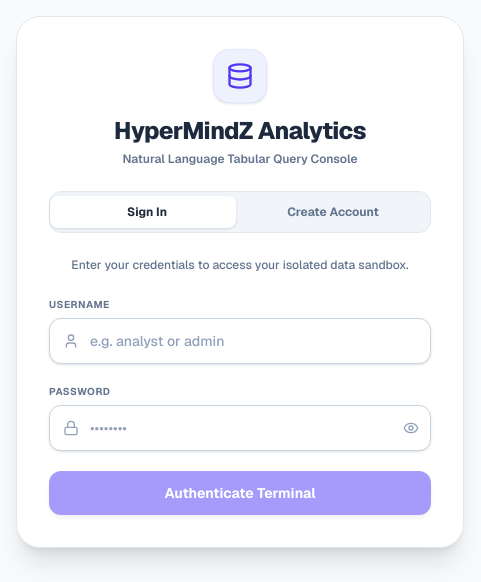
Test: MainDashboard Auth Wall › toggles between Sign In and Create Account modes
Check: the text "Enter your credentials to access your isolated data sandbox." is shown, box [57,257,423,273]
# Switch to Create Account
What coordinates should you click on to do the following:
click the button "Create Account"
I would click on:
 (333, 212)
Its box is [240,196,426,228].
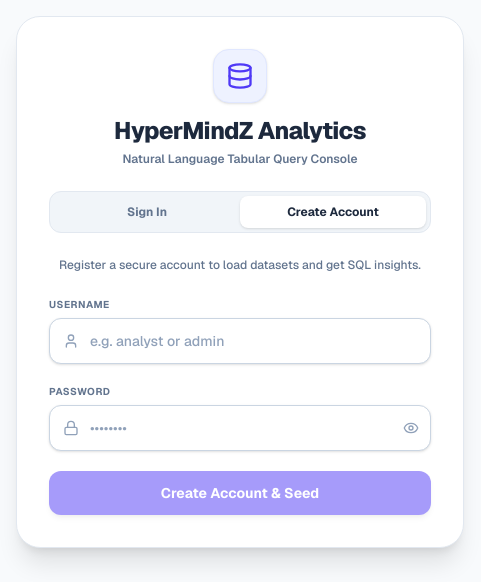
Check: the text "Register a secure account to load datasets and get SQL insights." is shown, box [57,257,423,273]
# Switch back to Sign In
What coordinates should you click on to do the following:
click the button "Sign In"
I would click on:
 (147, 212)
Its box is [54,196,240,228].
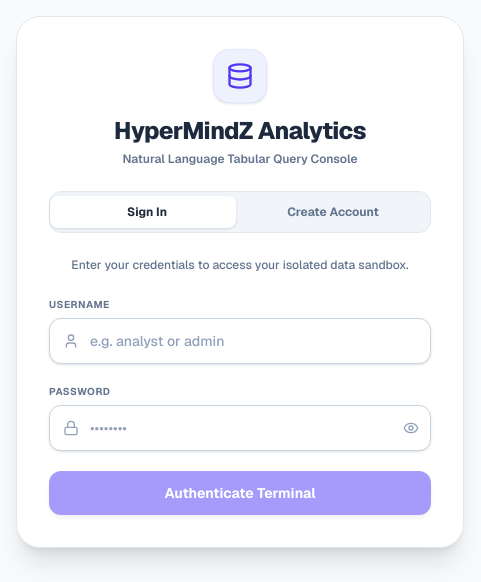
Check: the text "Enter your credentials to access your isolated data sandbox." is shown, box [57,257,423,273]
